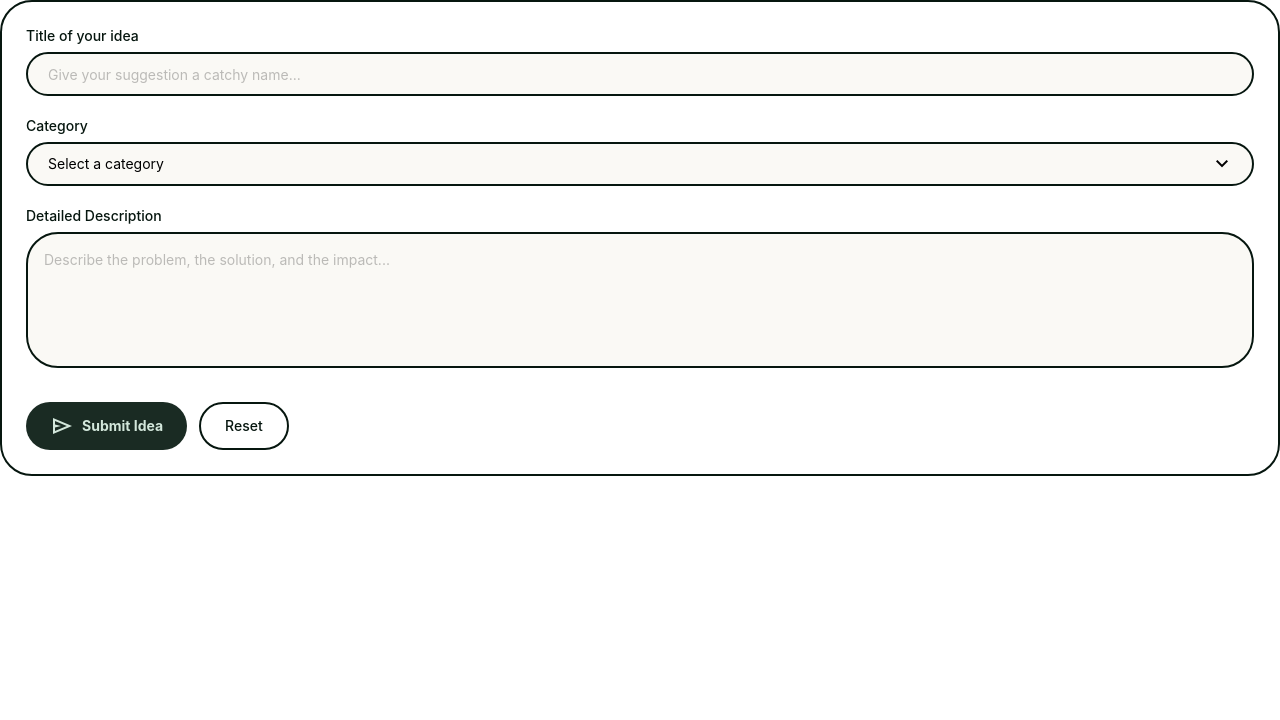
SuggestForm › validates category selection
Type "Valid Title" into the field with id "suggest-title". click: coordinates (640, 74)
box: [26, 52, 1254, 96]
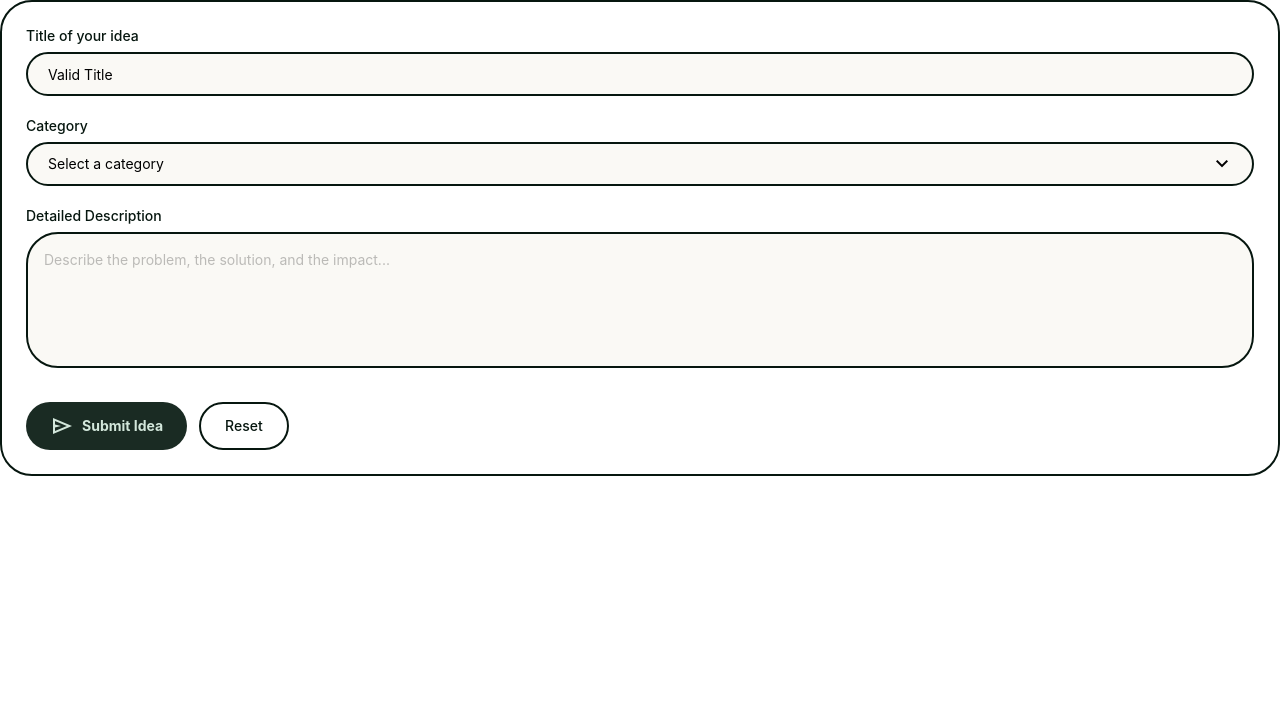
Type "This is a valid description that is long enough" into the text box with id "suggest-description". click: coordinates (640, 300)
box: [26, 232, 1254, 368]
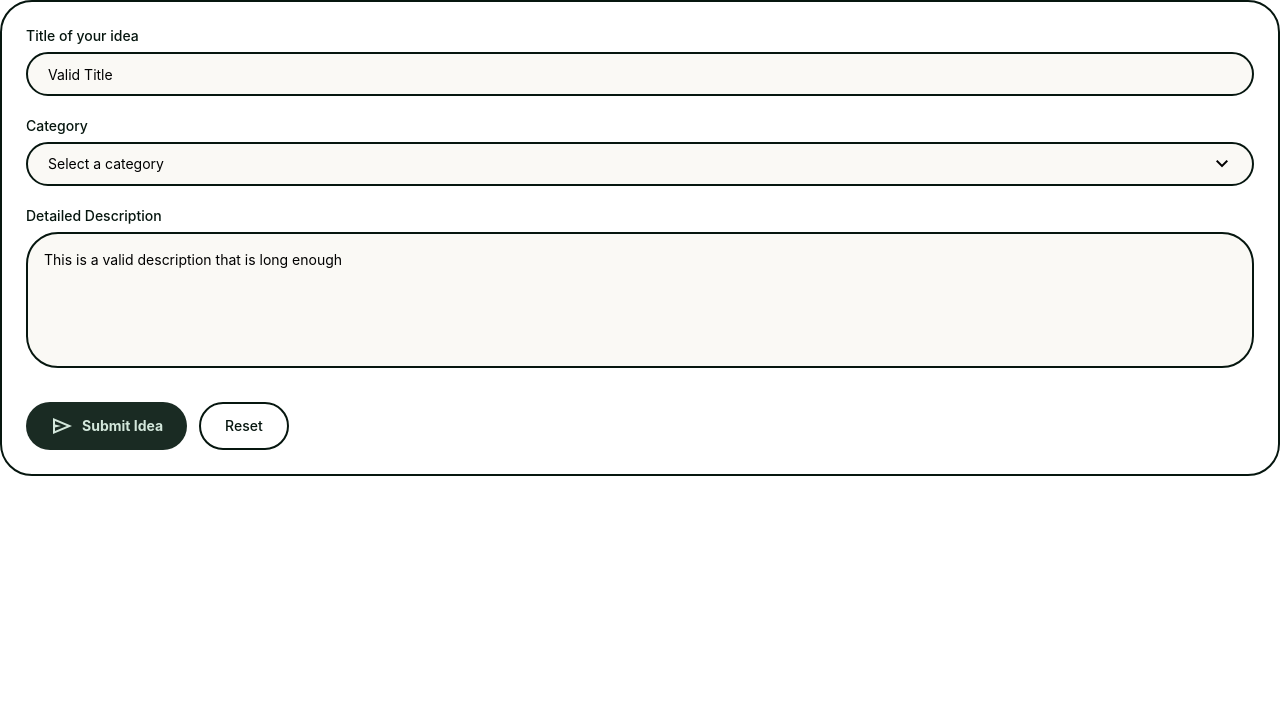
Submit the form, box [26, 26, 1254, 450]
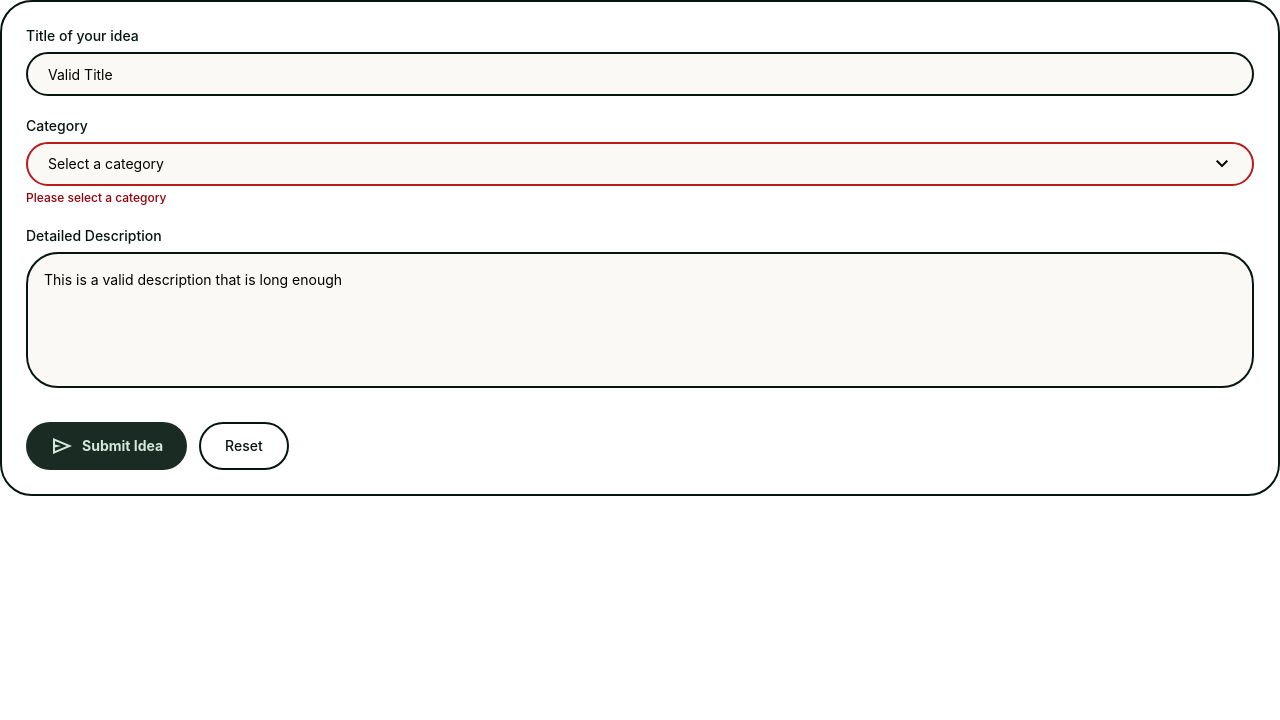
Expected: the text "Please select a category" is shown, [26, 190, 166, 205]
